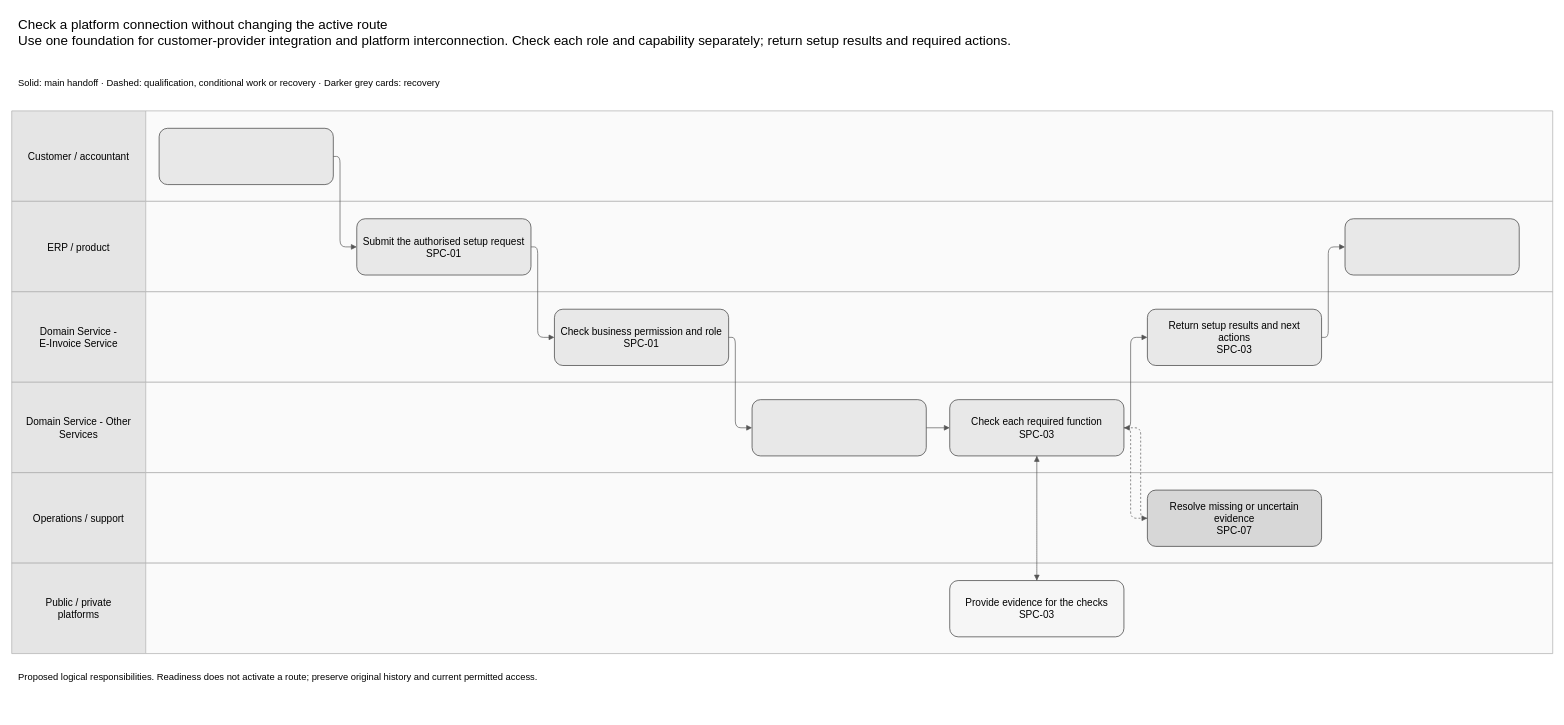
Some shapes in this 1564 by 725 pixel diagram are drawn without their labels. Each missing label, with the box of its shape:
Request platform setup SPC-01: (158, 128, 333, 185)
Save the connection and contract settings SPC-02: (751, 399, 926, 456)
Show checks and remaining steps SPC-03: (1344, 218, 1519, 275)
